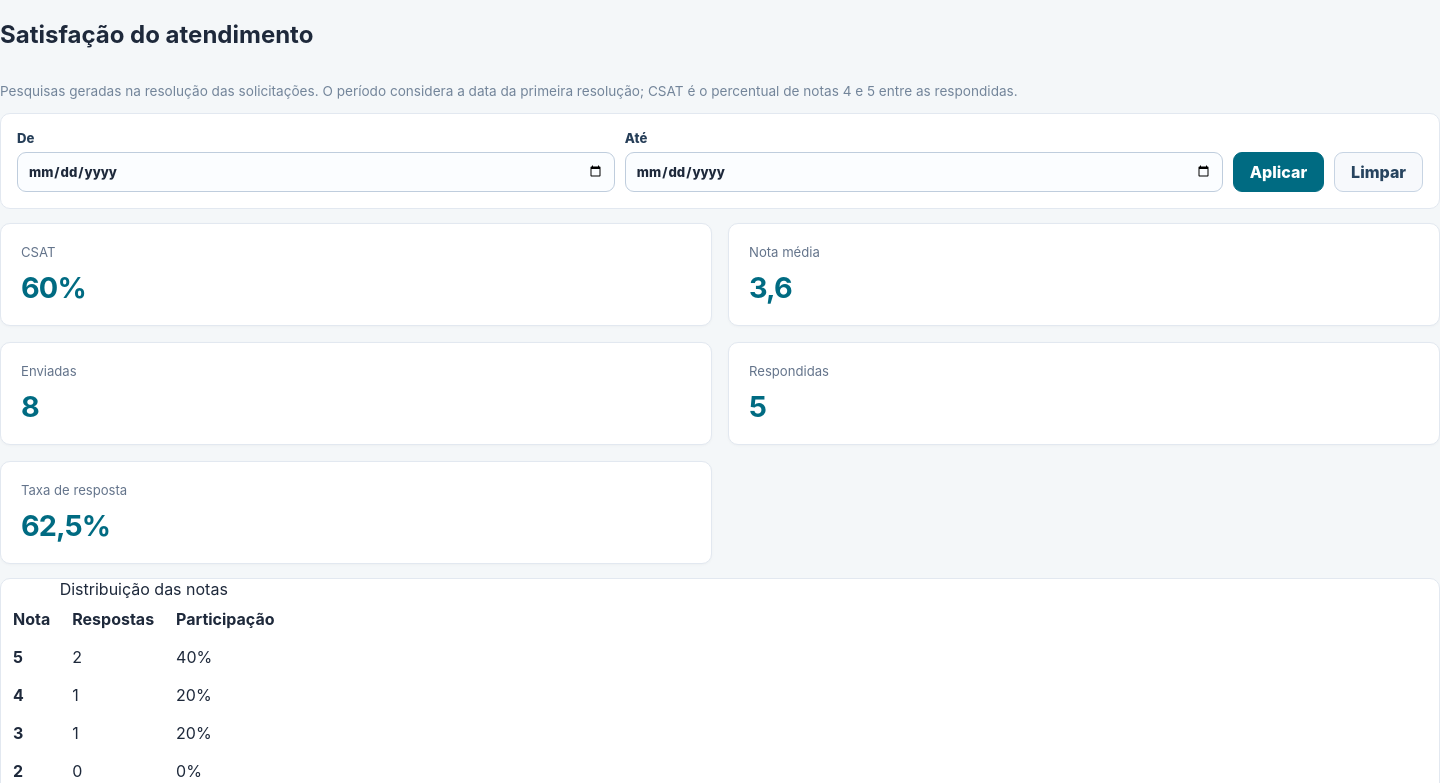
it: C5.4 CSAT report view › applies and validates the period filter
Expected: the element named "Indicadores de satisfação" is shown, [0, 223, 1439, 564]
Step 1. Type "2026-09-30" into the date field labelled "De" → [316, 172], box [17, 152, 615, 192]
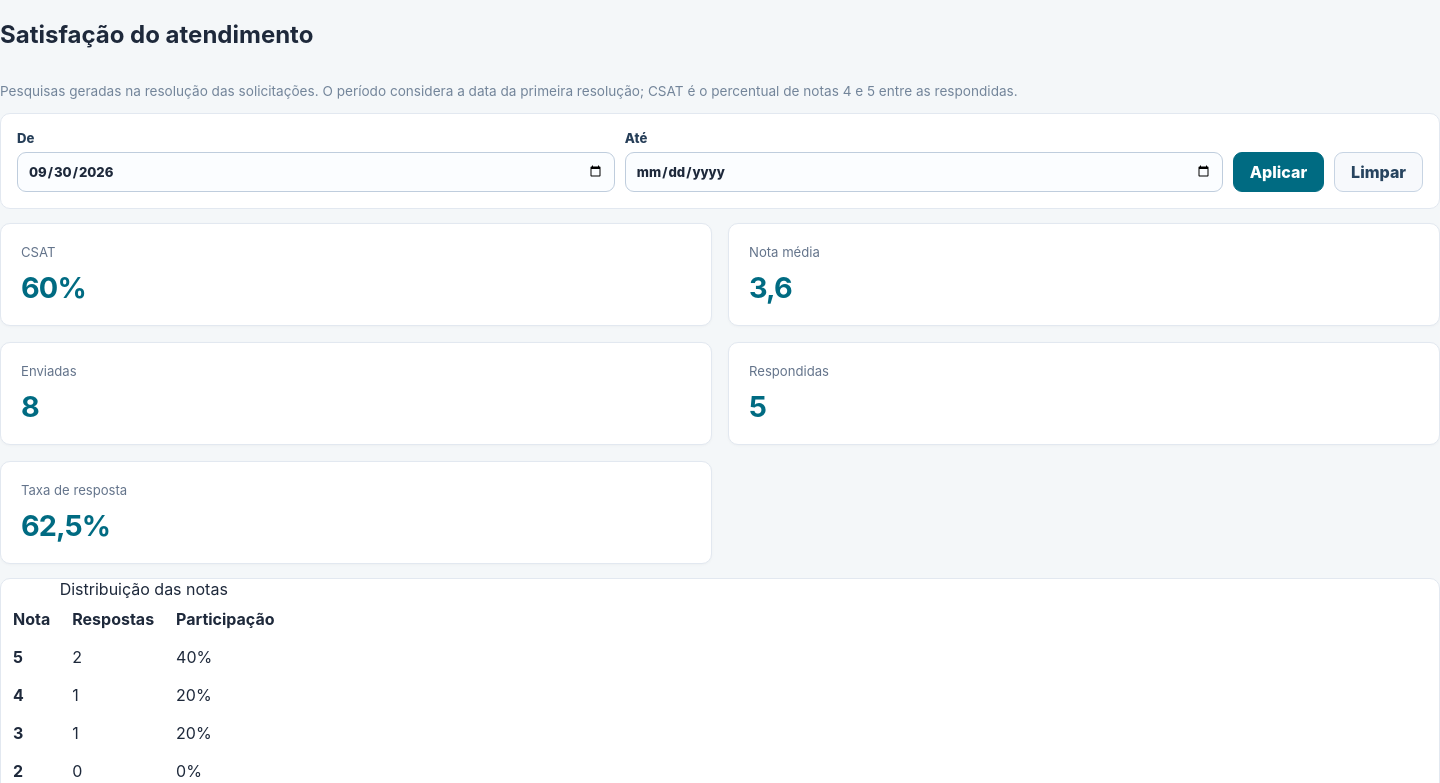
Step 2. Type "2026-09-01" into the date field labelled "Até" → [924, 172], box [625, 152, 1223, 192]
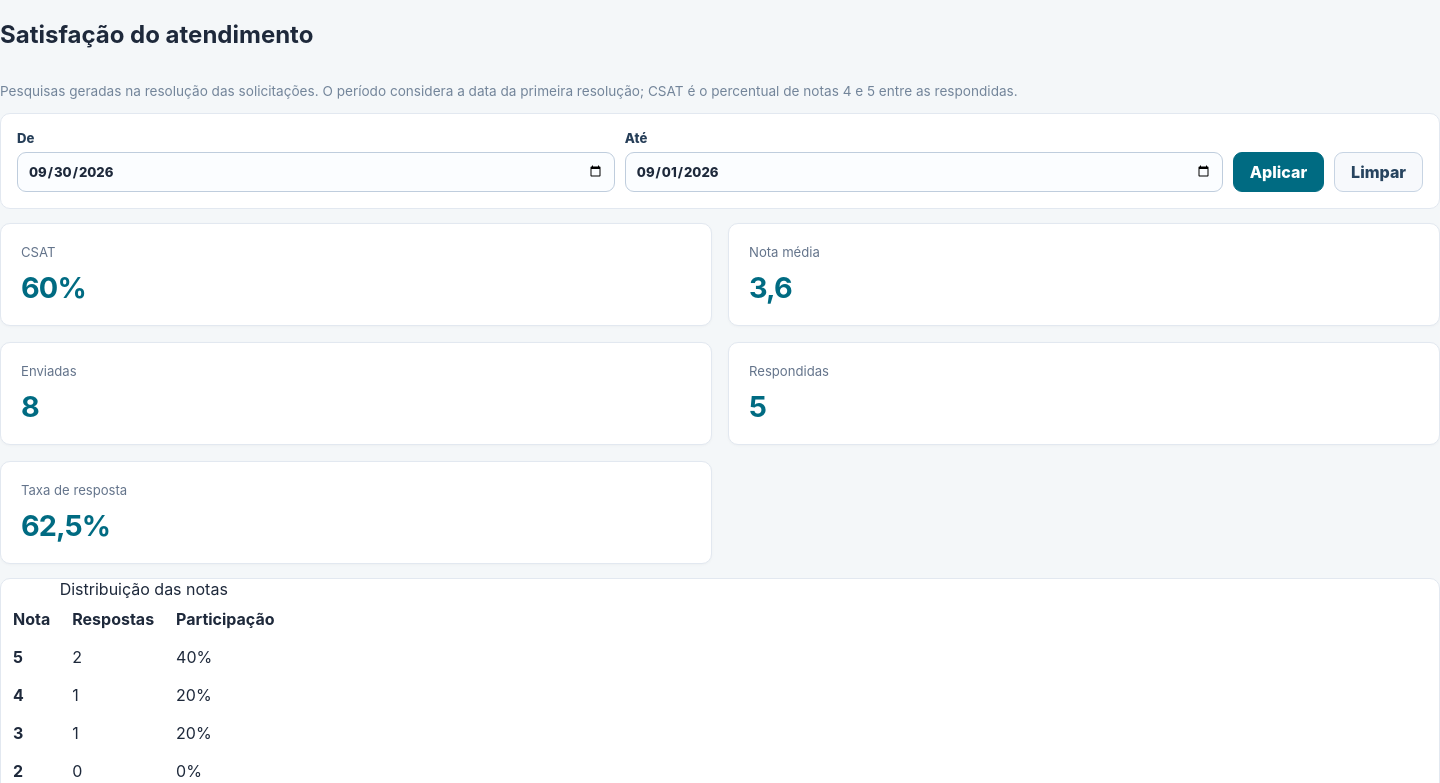
Step 3. Click the button "Aplicar" → [1278, 172], box [1233, 152, 1324, 192]
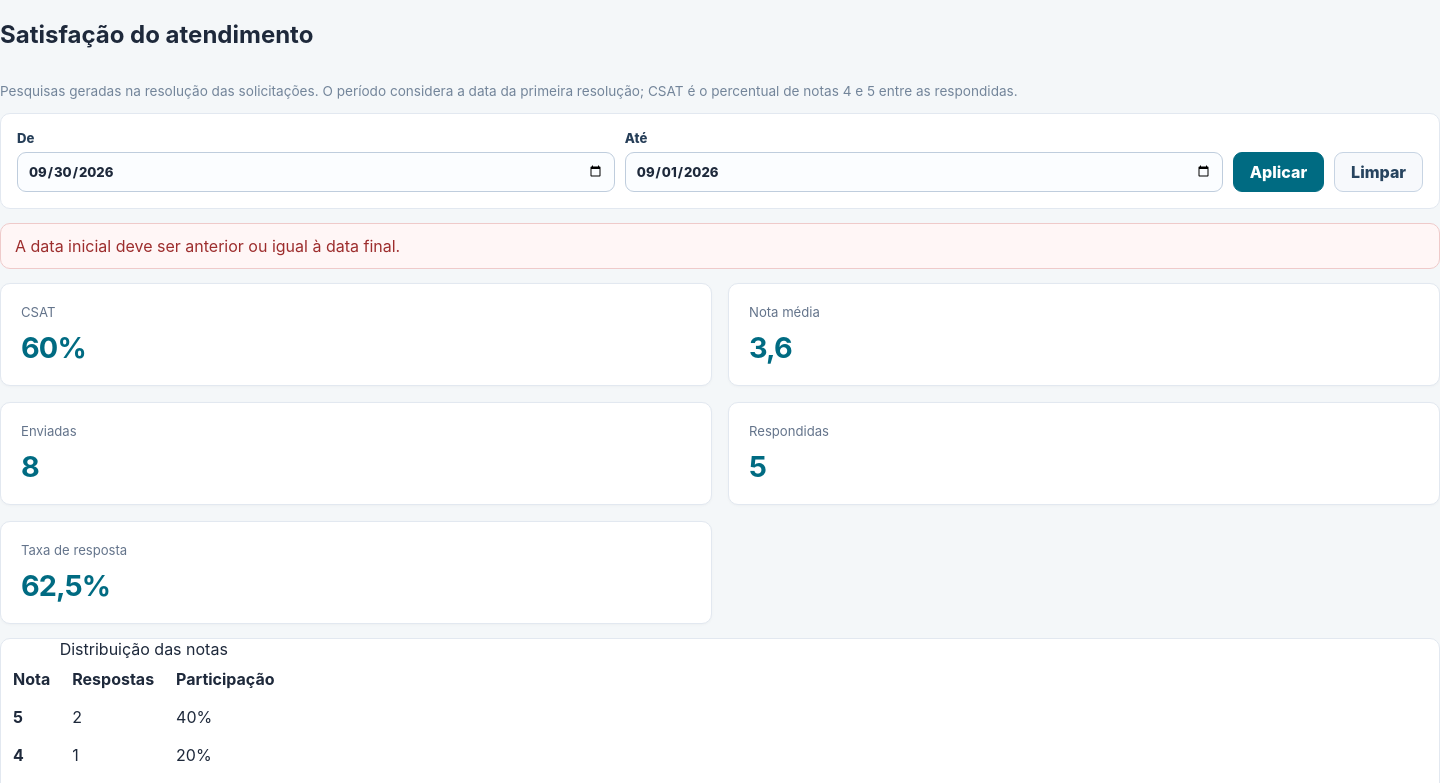
Now the message reads "A data inicial deve ser anterior ou igual à data final.", box [15, 236, 400, 256]
Step 4. Type "2026-10-31" into the date field labelled "Até" → [924, 172], box [625, 152, 1223, 192]
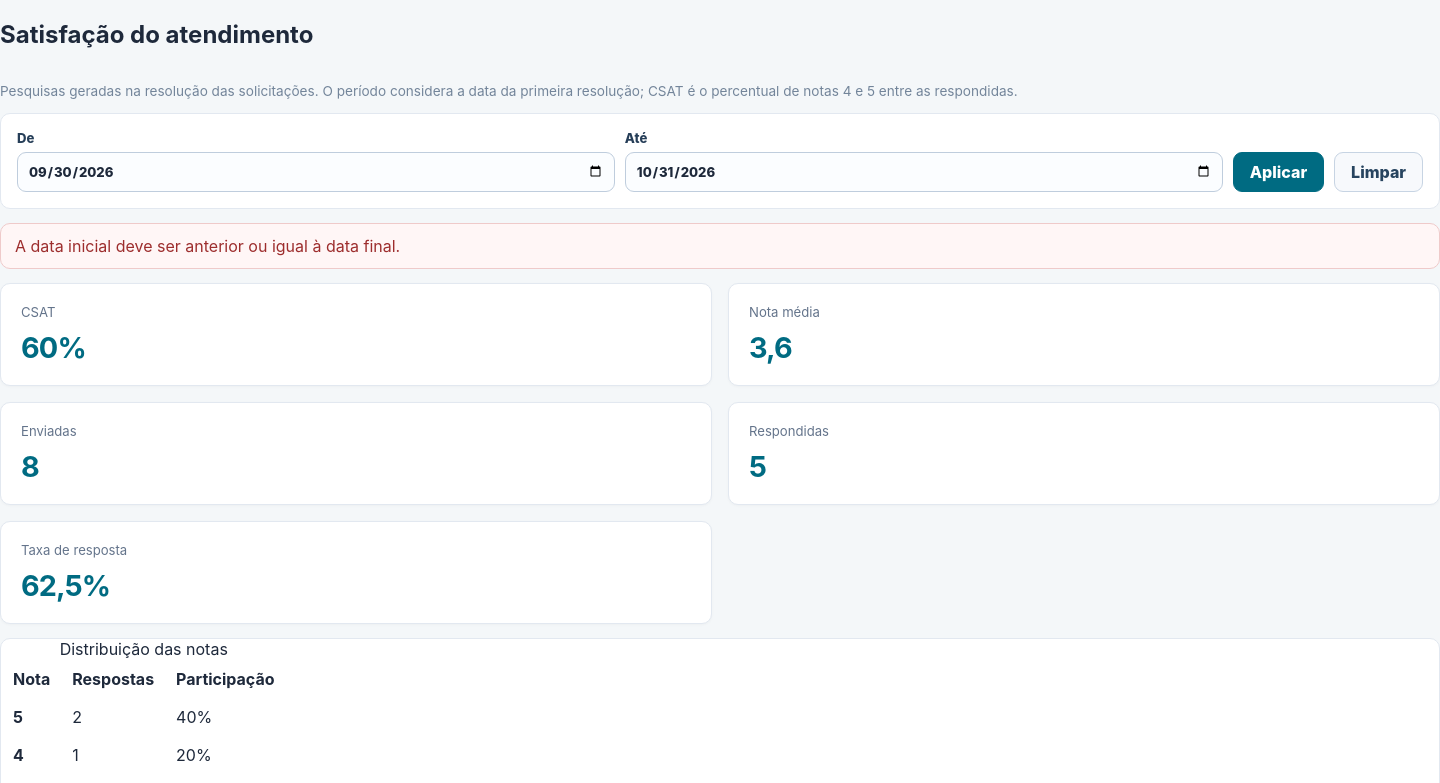
Step 5. Click the button "Aplicar" → [1278, 172], box [1233, 152, 1324, 192]
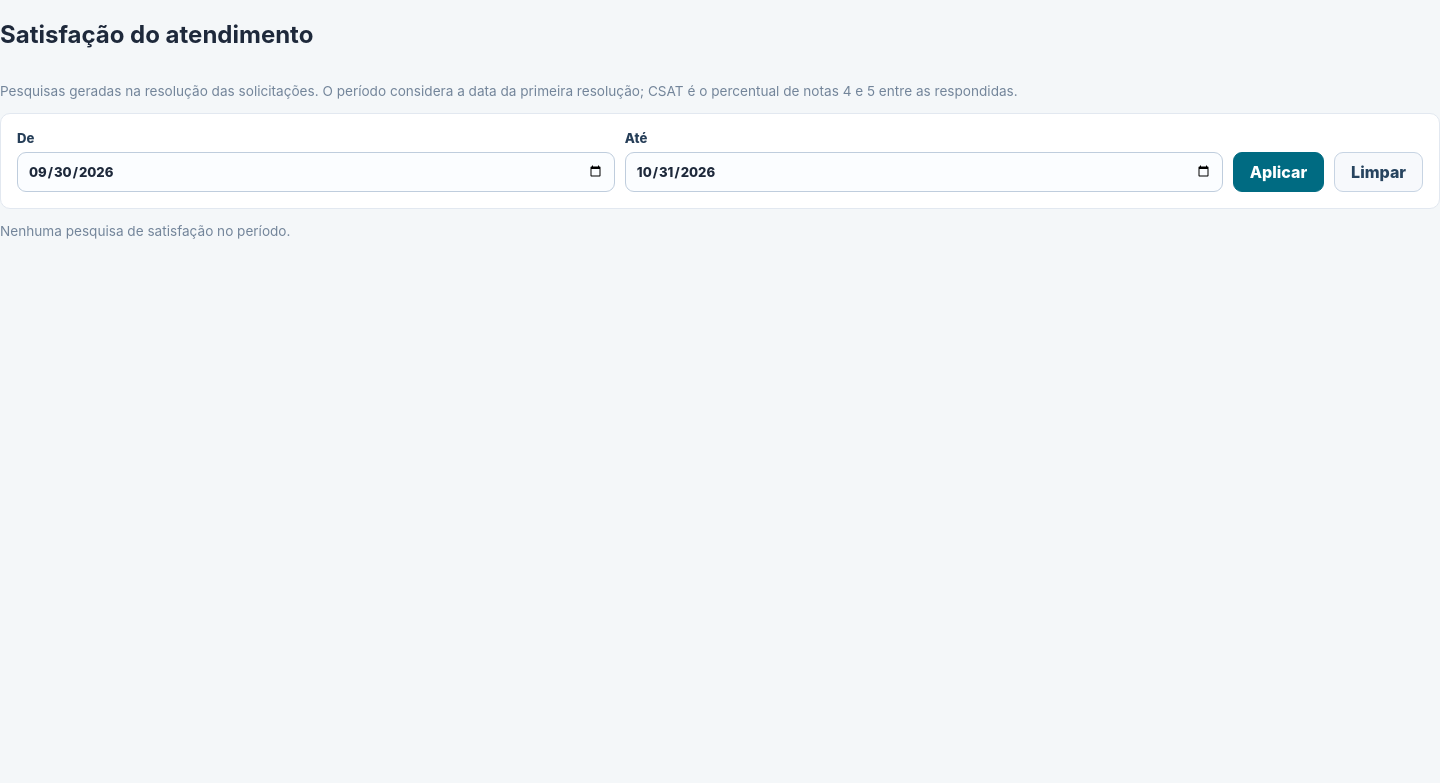
Now the text "Nenhuma pesquisa de satisfação no período." is shown, box [0, 223, 290, 239]
